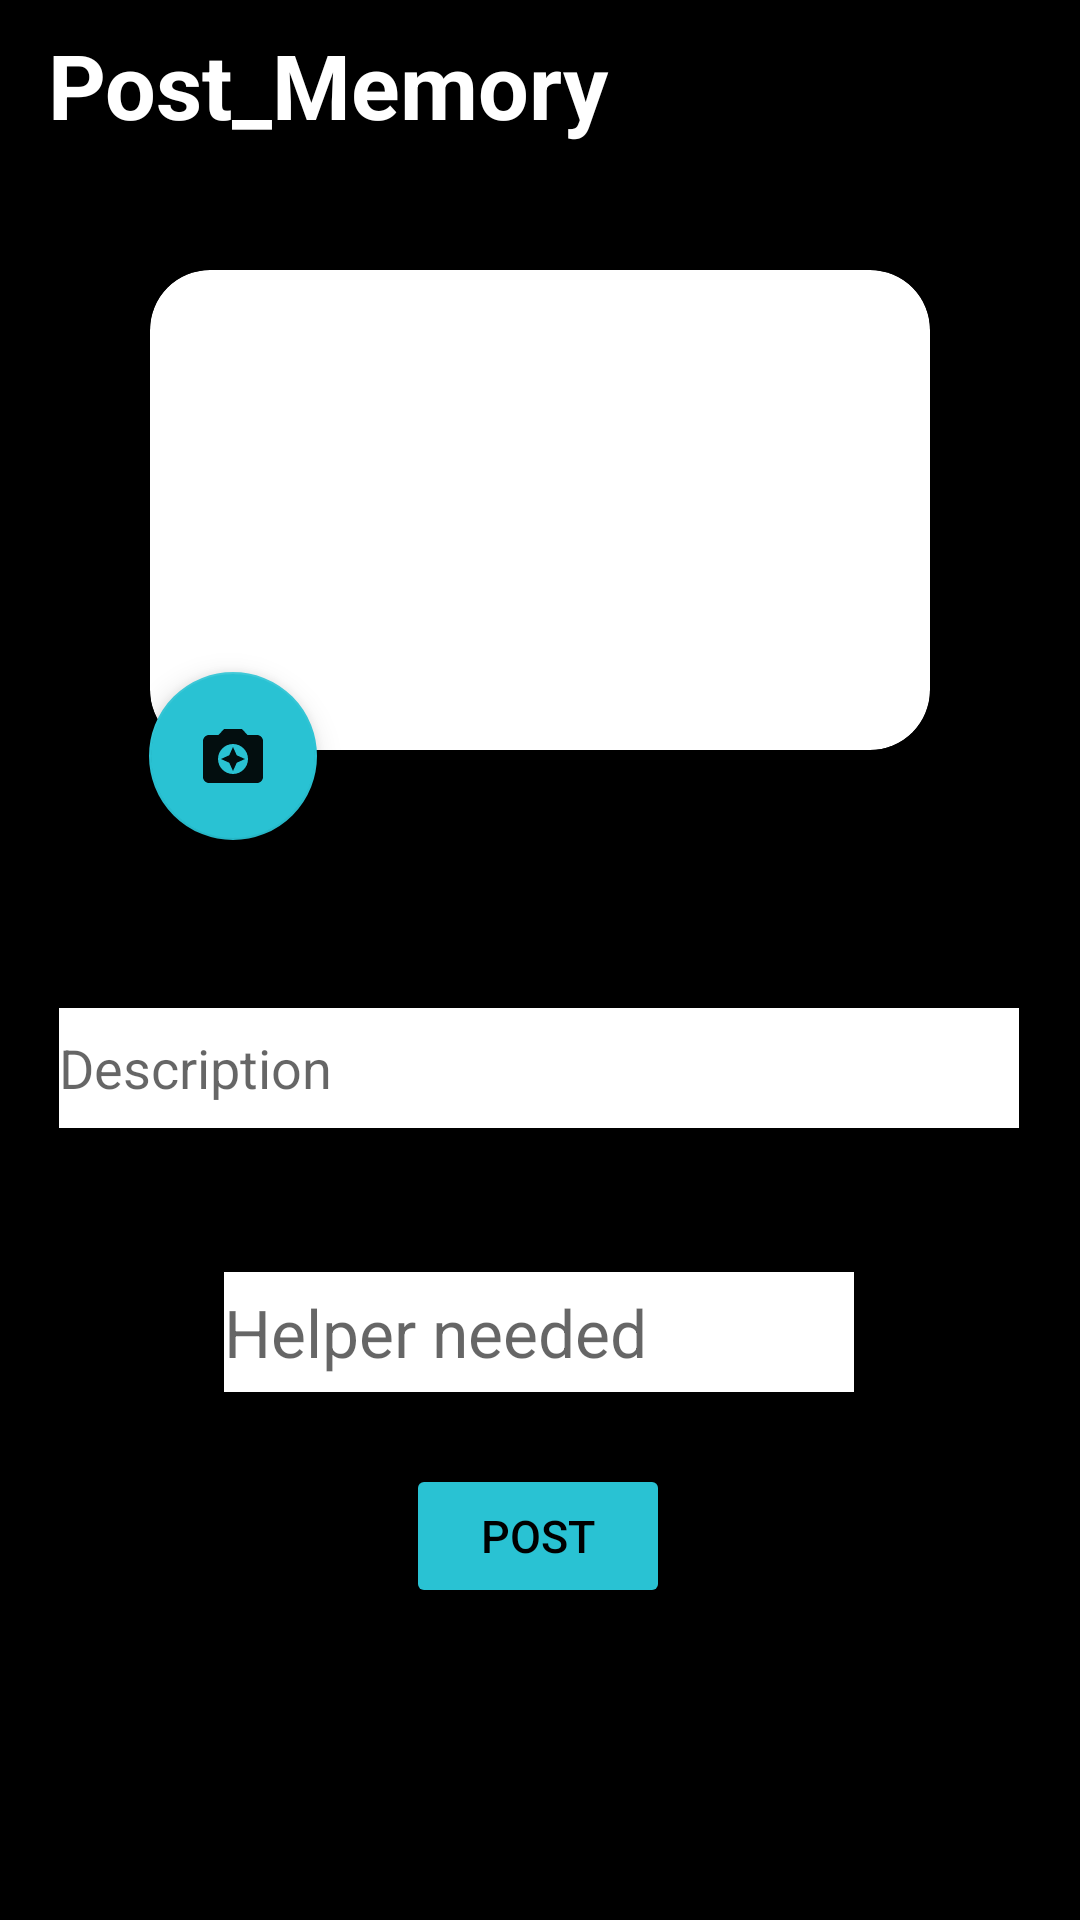

Icon click points for this 1080 x 1920 phone screenshot, format point (x, y):
camera enhance: point (233, 756)
